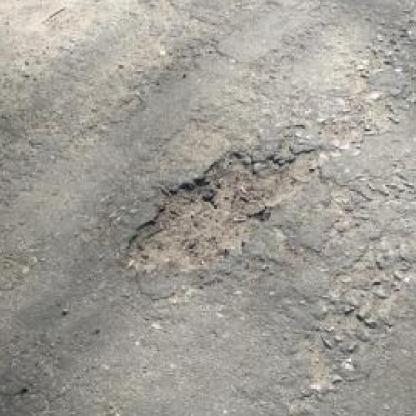pothole: (119, 142, 326, 272)
